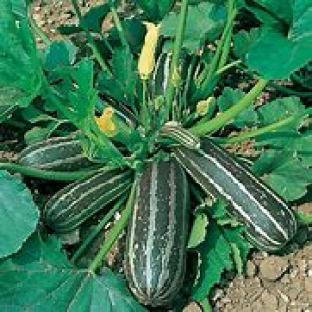Zucchini: (175, 139, 296, 251), (125, 160, 189, 306), (44, 170, 132, 232), (19, 137, 91, 171), (161, 122, 199, 149)
